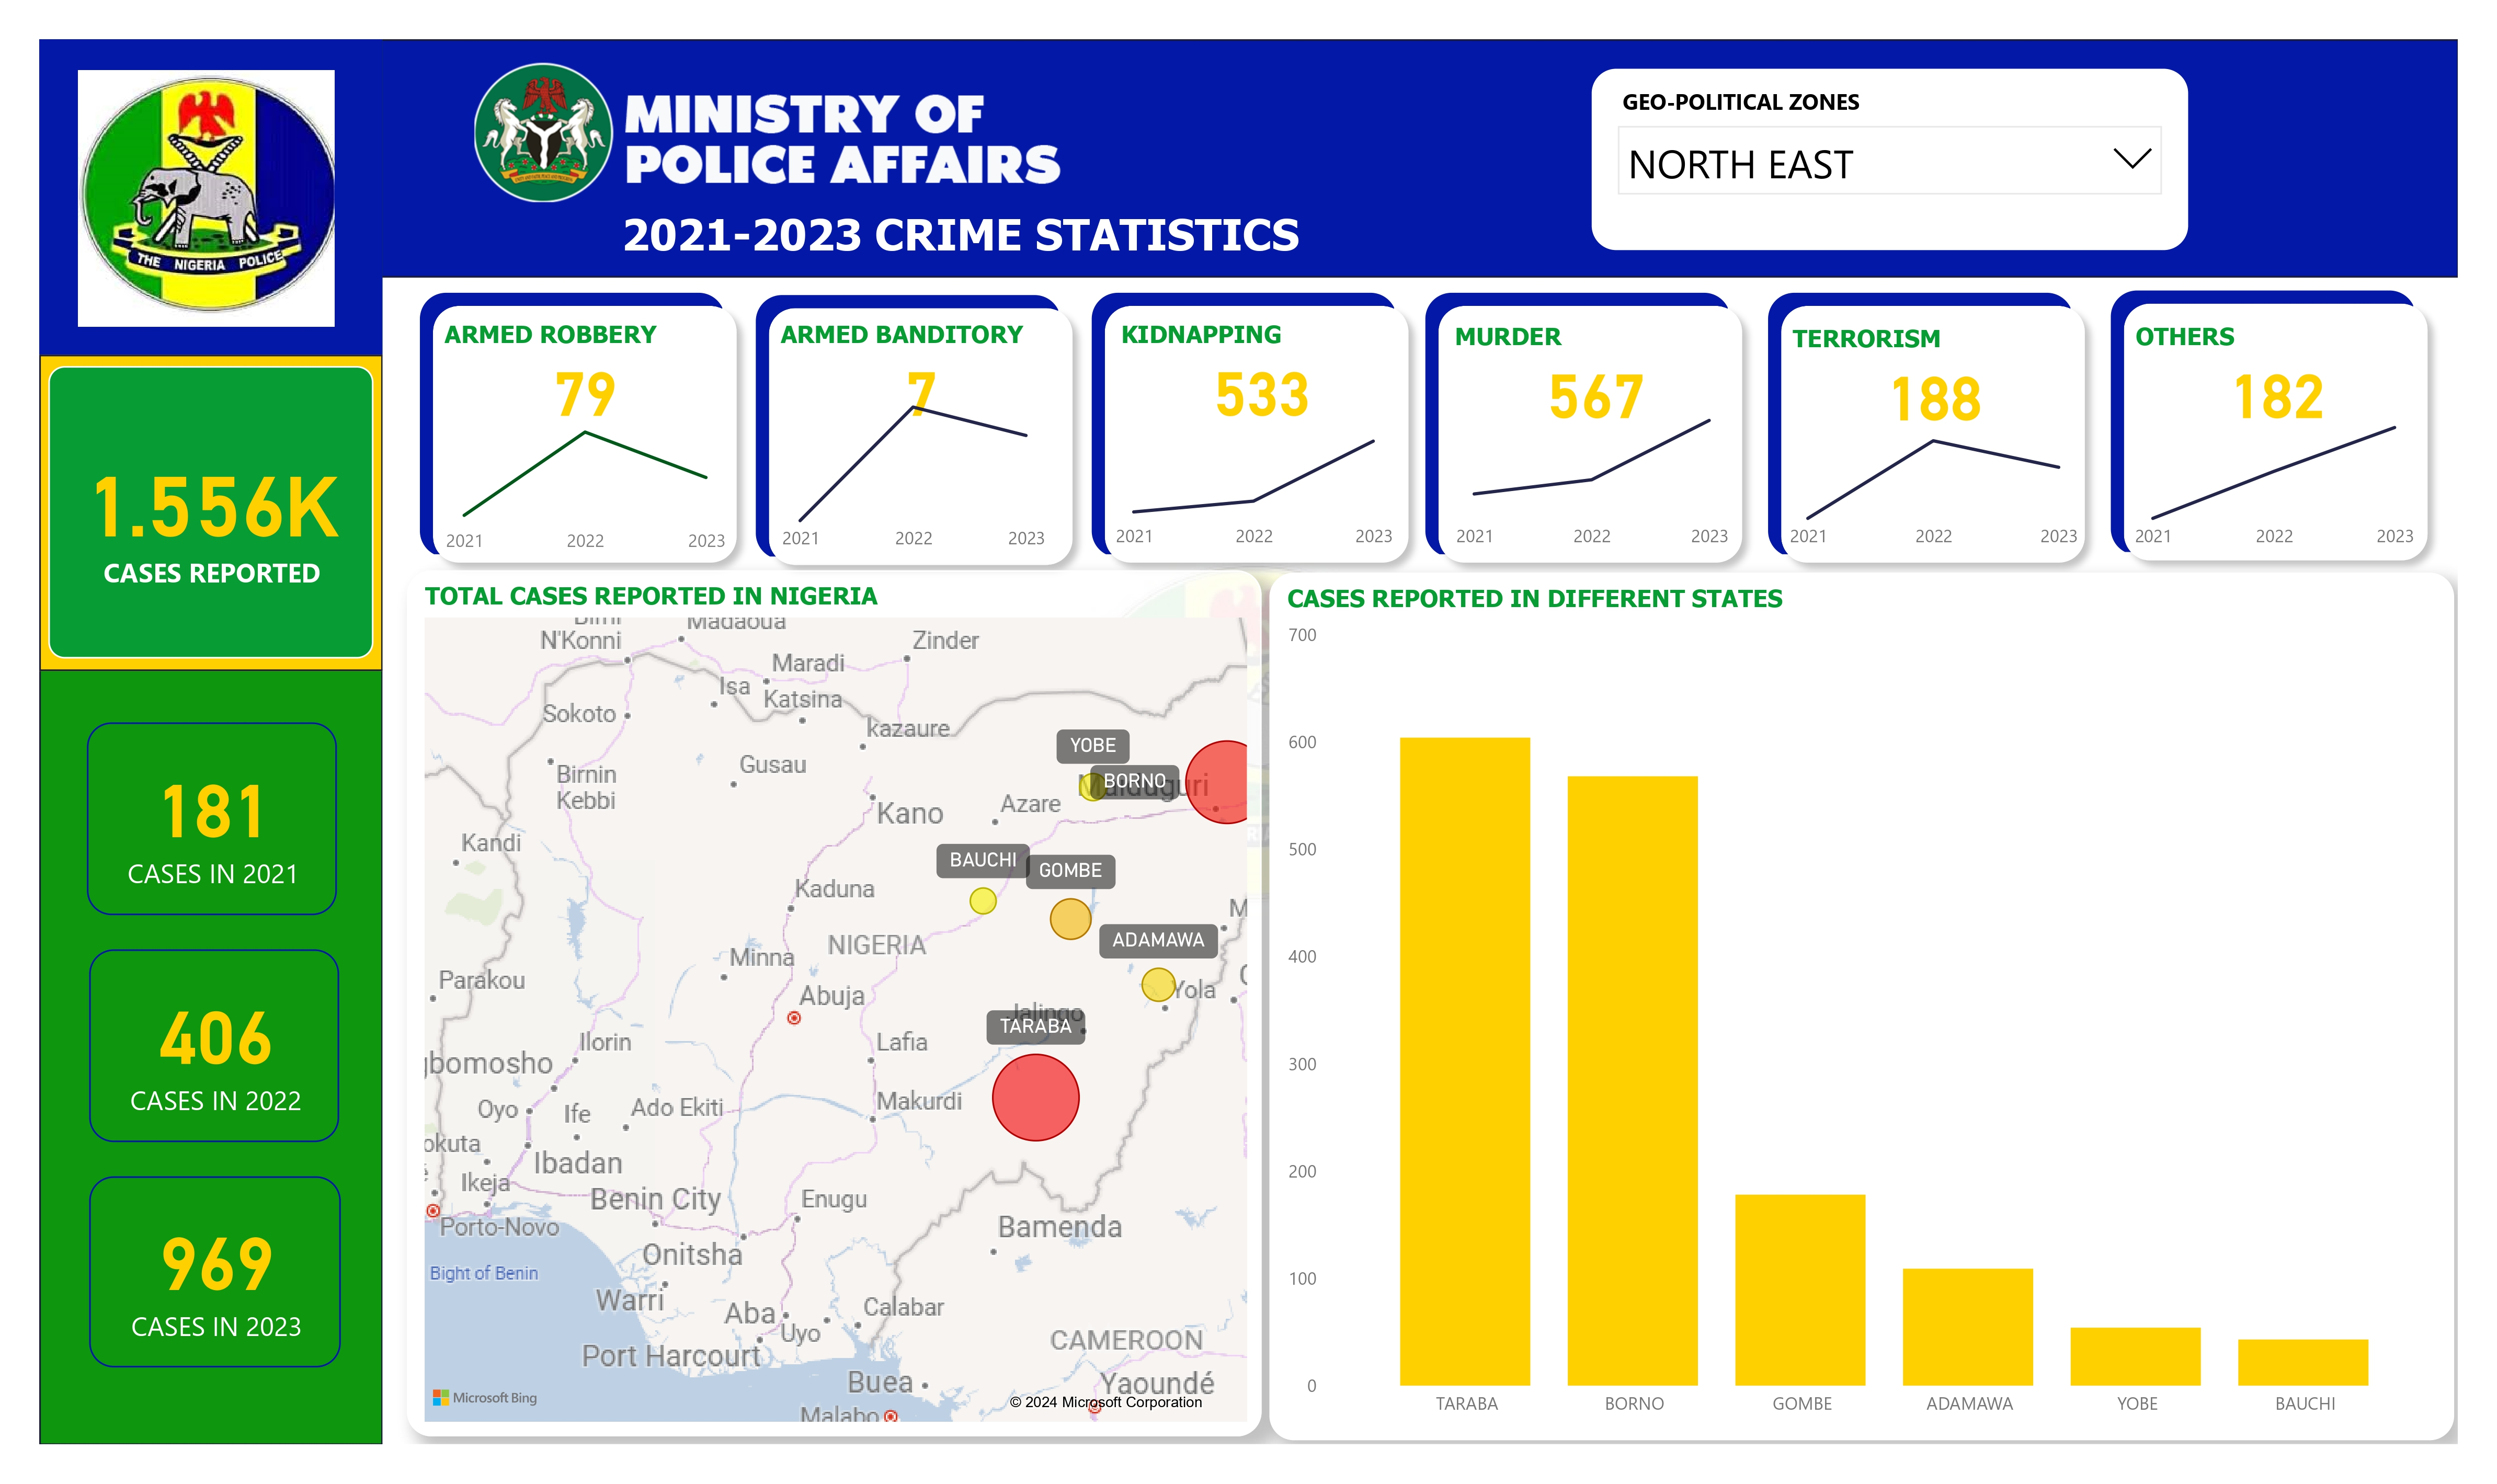

What the dashboard file says about the page in this screenshot:
{"tool":"powerbi","page":{"name":"OVERVIEW","canvas":[1480,860],"ordinal":0},"visuals":[{"type":"shape","box":[183.3,0,1297.2,145.8],"z":0},{"type":"shape","box":[1267.1,152.8,186.6,161.8],"z":0,"group":"g5"},{"type":"shape","box":[232.3,153.5,186.6,161.8],"z":0,"group":"g1"},{"type":"shape","box":[643.4,154.2,186.6,161.8],"z":0,"group":"g3"},{"type":"shape","box":[847.6,154.2,186.6,161.8],"z":0,"group":"g4"},{"type":"shape","box":[1056.4,154.4,186.6,161.8],"z":0,"group":"g6"},{"type":"shape","box":[437.8,155.5,186.6,161.8],"z":0,"group":"g2"},{"type":"shape","box":[1267.1,152.8,203.8,175.2],"z":1000,"group":"g5"},{"type":"group","id":"g1","title":"Group 1","box":[232.3,153.5,203.8,175.2],"z":1000},{"type":"shape","box":[232.3,153.5,203.8,175.2],"z":1000,"group":"g1"},{"type":"shape","box":[643.4,154.2,203.8,175.2],"z":1000,"group":"g3"},{"type":"shape","box":[847.6,154.2,203.8,175.2],"z":1000,"group":"g4"},{"type":"shape","box":[1056.4,154.4,203.8,175.2],"z":1000,"group":"g6"},{"type":"shape","box":[437.8,155.5,203.8,175.2],"z":1000,"group":"g2"},{"type":"group","id":"g2","title":"Group 1","box":[437.8,155.5,203.8,175.2],"z":2000},{"type":"group","id":"g3","title":"Group 1","box":[643.4,154.2,203.8,175.2],"z":3000},{"type":"group","id":"g4","title":"Group 1","box":[847.6,154.2,203.8,175.2],"z":4000},{"type":"group","id":"g5","title":"Group 1","box":[1267.1,152.8,204.2,175],"z":5000},{"type":"group","id":"g6","title":"Group 1","box":[1056.4,154.4,204.2,176.4],"z":6000},{"type":"slicer","fields":{"Values":["Crime-Statistics-Summary-Ministry-of-Police-Affairs FOR 3 YEARS.GEO-POLITICAL ZONES","Crime-Statistics-Summary-Ministry-of-Police-Affairs FOR 3 YEARS.STATE"]},"box":[950,18.1,365.3,111.1],"z":7000},{"type":"shape","box":[0,0,210.3,860.3],"z":8000},{"type":"shape","box":[0,0,210.3,193.6],"z":9000},{"type":"map","title":"TOTAL CASES REPORTED IN NIGERIA","fields":{"Category":["Crime-Statistics-Summary-Ministry-of-Police-Affairs FOR 3 YEARS.STATE"],"Size":["Sum(Crime-Statistics-Summary-Ministry-of-Police-Affairs FOR 3 YEARS.TOTAL CASES REPORTED)"]},"box":[224.8,325.5,522.9,529.9],"z":10000},{"type":"card","fields":{"Values":["Sum(Crime-Statistics-Summary-Ministry-of-Police-Affairs FOR 3 YEARS.TOTAL CASES REPORTED)"]},"box":[29.2,418.1,152.8,118.1],"z":11000},{"type":"card","fields":{"Values":["Sum(Crime-Statistics-Summary-Ministry-of-Police-Affairs FOR 3 YEARS.TOTAL CASES REPORTED)"]},"box":[30.8,556.6,153.3,117.8],"z":12000},{"type":"card","fields":{"Values":["Sum(Crime-Statistics-Summary-Ministry-of-Police-Affairs FOR 3 YEARS.TOTAL CASES REPORTED)"]},"box":[30.6,695.8,154.2,116.7],"z":13000},{"type":"shape","box":[3.4,872.4,210.3,206.9],"z":14000},{"type":"shape","box":[0,193.6,210.3,193.6],"z":15000},{"type":"card","title":"ARMED ROBBERY","fields":{"Values":["Sum(Crime-Statistics-Summary-Ministry-of-Police-Affairs FOR 3 YEARS.ARMED ROBBERYCASES (JAN-DEC))"]},"box":[243.1,170.8,181.9,68.1],"z":16000},{"type":"lineChart","fields":{"Y":["Sum(Crime-Statistics-Summary-Ministry-of-Police-Affairs FOR 3 YEARS.ARMED ROBBERYCASES (JAN-DEC))"],"Category":["Crime-Statistics-Summary-Ministry-of-Police-Affairs FOR 3 YEARS.YEAR"]},"box":[243.1,212.5,181.9,112.5],"z":17000},{"type":"card","title":"ARMED BANDITORY","fields":{"Values":["Sum(Crime-Statistics-Summary-Ministry-of-Police-Affairs FOR 3 YEARS.ARMEDBANDITRY OCCCURRENCE (JAN-DEC))"]},"box":[448.6,170.8,181.9,68.1],"z":18000},{"type":"card","title":"KIDNAPPING","fields":{"Values":["Sum(Crime-Statistics-Summary-Ministry-of-Police-Affairs FOR 3 YEARS.KIDNAPPINGCASES (JAN-DEC))"]},"box":[656.9,170.8,181.9,68.1],"z":19000},{"type":"card","title":"MURDER","fields":{"Values":["Sum(Crime-Statistics-Summary-Ministry-of-Police-Affairs FOR 3 YEARS.MURDERCASES (JAN-DEC))"]},"box":[861.1,172.2,181.9,68.1],"z":20000},{"type":"card","title":"TERRORISM","fields":{"Values":["Sum(Crime-Statistics-Summary-Ministry-of-Police-Affairs FOR 3 YEARS.TERRORRISM/SECESSIONISTSATTACK (JAN-DEC))"]},"box":[1068.1,173.6,183.3,68.1],"z":21000},{"type":"card","title":"OTHERS","fields":{"Values":["Sum(Crime-Statistics-Summary-Ministry-of-Police-Affairs FOR 3 YEARS.OTHERS (JAN-DEC))"]},"box":[1277.8,172.2,183.3,68.1],"z":22000},{"type":"lineChart","fields":{"Y":["Sum(Crime-Statistics-Summary-Ministry-of-Police-Affairs FOR 3 YEARS.ARMEDBANDITRY OCCCURRENCE (JAN-DEC))"],"Category":["Crime-Statistics-Summary-Ministry-of-Police-Affairs FOR 3 YEARS.YEAR"]},"box":[448.6,211.1,172.2,112.5],"z":23000},{"type":"lineChart","fields":{"Y":["Sum(Crime-Statistics-Summary-Ministry-of-Police-Affairs FOR 3 YEARS.KIDNAPPINGCASES (JAN-DEC))"],"Category":["Crime-Statistics-Summary-Ministry-of-Police-Affairs FOR 3 YEARS.YEAR"]},"box":[652.8,209.7,180.6,112.5],"z":24000},{"type":"lineChart","fields":{"Y":["Sum(Crime-Statistics-Summary-Ministry-of-Police-Affairs FOR 3 YEARS.MURDERCASES (JAN-DEC))"],"Category":["Crime-Statistics-Summary-Ministry-of-Police-Affairs FOR 3 YEARS.YEAR"]},"box":[861.1,209.7,177.8,112.5],"z":25000},{"type":"lineChart","fields":{"Y":["Sum(Crime-Statistics-Summary-Ministry-of-Police-Affairs FOR 3 YEARS.TERRORRISM/SECESSIONISTSATTACK (JAN-DEC))"],"Category":["Crime-Statistics-Summary-Ministry-of-Police-Affairs FOR 3 YEARS.YEAR"]},"box":[1065.3,209.7,187.5,112.5],"z":26000},{"type":"lineChart","fields":{"Y":["Sum(Crime-Statistics-Summary-Ministry-of-Police-Affairs FOR 3 YEARS.OTHERS (JAN-DEC))"],"Category":["Crime-Statistics-Summary-Ministry-of-Police-Affairs FOR 3 YEARS.YEAR"]},"box":[1276.4,209.7,181.9,112.5],"z":27000},{"type":"image","box":[176.4,0,540.3,109.7],"z":28000},{"type":"textbox","box":[351.4,97.2,465.3,48.6],"z":29000},{"type":"image","box":[2.8,13.9,198.6,166.7],"z":30000},{"type":"card","fields":{"Values":["Sum(Crime-Statistics-Summary-Ministry-of-Police-Affairs FOR 3 YEARS.TOTAL CASES REPORTED)"]},"box":[5.6,200,198.6,179.2],"z":31000},{"type":"clusteredColumnChart","title":"CASES REPORTED IN DIFFERENT STATES","fields":{"Category":["Crime-Statistics-Summary-Ministry-of-Police-Affairs FOR 3 YEARS.STATE"],"Y":["Sum(Crime-Statistics-Summary-Ministry-of-Police-Affairs FOR 3 YEARS.TOTAL CASES REPORTED)"]},"box":[752.8,326.4,725,530.6],"z":32000}]}

Visuals, with their boxes in screenshot pixels (x1, y1, x2, y2):
shape: [left=331, top=32, right=2489, bottom=275]
shape: [left=2134, top=287, right=2445, bottom=556]
shape: [left=413, top=288, right=723, bottom=557]
shape: [left=1097, top=289, right=1407, bottom=558]
shape: [left=1436, top=289, right=1747, bottom=558]
shape: [left=1784, top=289, right=2094, bottom=558]
shape: [left=755, top=291, right=1065, bottom=561]
shape: [left=2134, top=287, right=2473, bottom=578]
"Group 1" group: [left=413, top=288, right=751, bottom=579]
shape: [left=413, top=288, right=751, bottom=579]
shape: [left=1097, top=289, right=1435, bottom=580]
shape: [left=1436, top=289, right=1775, bottom=580]
shape: [left=1784, top=289, right=2123, bottom=581]
shape: [left=755, top=291, right=1093, bottom=583]
"Group 1" group: [left=755, top=291, right=1093, bottom=583]
"Group 1" group: [left=1097, top=289, right=1435, bottom=580]
"Group 1" group: [left=1436, top=289, right=1775, bottom=580]
"Group 1" group: [left=2134, top=287, right=2474, bottom=578]
"Group 1" group: [left=1784, top=289, right=2124, bottom=583]
slicer - Crime-Statistics-Summary-Ministry-of-Police-Affairs FOR 3 YEARS.GEO-POLITICAL ZONES x Crime-Statistics-Summary-Ministry-of-Police-Affairs FOR 3 YEARS.STATE: [left=1606, top=63, right=2215, bottom=247]
shape: [left=26, top=32, right=376, bottom=1464]
shape: [left=26, top=32, right=376, bottom=355]
"TOTAL CASES REPORTED IN NIGERIA" map: [left=400, top=574, right=1270, bottom=1456]
card - Sum(Crime-Statistics-Summary-Ministry-of-Police-Affairs FOR 3 YEARS.TOTAL CASES REPORTED): [left=75, top=728, right=329, bottom=924]
card - Sum(Crime-Statistics-Summary-Ministry-of-Police-Affairs FOR 3 YEARS.TOTAL CASES REPORTED): [left=77, top=958, right=333, bottom=1155]
card - Sum(Crime-Statistics-Summary-Ministry-of-Police-Affairs FOR 3 YEARS.TOTAL CASES REPORTED): [left=77, top=1190, right=334, bottom=1384]
shape: [left=26, top=355, right=376, bottom=677]
"ARMED ROBBERY" card: [left=430, top=317, right=733, bottom=430]
lineChart - Sum(Crime-Statistics-Summary-Ministry-of-Police-Affairs FOR 3 YEARS.ARMED ROBBERYCASES (JAN-DEC)) x Crime-Statistics-Summary-Ministry-of-Police-Affairs FOR 3 YEARS.YEAR: [left=430, top=386, right=733, bottom=573]
"ARMED BANDITORY" card: [left=772, top=317, right=1075, bottom=430]
"KIDNAPPING" card: [left=1119, top=317, right=1422, bottom=430]
"MURDER" card: [left=1459, top=319, right=1761, bottom=432]
"TERRORISM" card: [left=1803, top=322, right=2108, bottom=435]
"OTHERS" card: [left=2152, top=319, right=2457, bottom=432]
lineChart - Sum(Crime-Statistics-Summary-Ministry-of-Police-Affairs FOR 3 YEARS.ARMEDBANDITRY OCCCURRENCE (JAN-DEC)) x Crime-Statistics-Summary-Ministry-of-Police-Affairs FOR 3 YEARS.YEAR: [left=772, top=384, right=1059, bottom=571]
lineChart - Sum(Crime-Statistics-Summary-Ministry-of-Police-Affairs FOR 3 YEARS.KIDNAPPINGCASES (JAN-DEC)) x Crime-Statistics-Summary-Ministry-of-Police-Affairs FOR 3 YEARS.YEAR: [left=1112, top=381, right=1412, bottom=568]
lineChart - Sum(Crime-Statistics-Summary-Ministry-of-Police-Affairs FOR 3 YEARS.MURDERCASES (JAN-DEC)) x Crime-Statistics-Summary-Ministry-of-Police-Affairs FOR 3 YEARS.YEAR: [left=1459, top=381, right=1754, bottom=568]
lineChart - Sum(Crime-Statistics-Summary-Ministry-of-Police-Affairs FOR 3 YEARS.TERRORRISM/SECESSIONISTSATTACK (JAN-DEC)) x Crime-Statistics-Summary-Ministry-of-Police-Affairs FOR 3 YEARS.YEAR: [left=1798, top=381, right=2111, bottom=568]
lineChart - Sum(Crime-Statistics-Summary-Ministry-of-Police-Affairs FOR 3 YEARS.OTHERS (JAN-DEC)) x Crime-Statistics-Summary-Ministry-of-Police-Affairs FOR 3 YEARS.YEAR: [left=2150, top=381, right=2453, bottom=568]
image: [left=320, top=32, right=1218, bottom=215]
textbox: [left=611, top=194, right=1385, bottom=275]
image: [left=31, top=55, right=361, bottom=333]
card - Sum(Crime-Statistics-Summary-Ministry-of-Police-Affairs FOR 3 YEARS.TOTAL CASES REPORTED): [left=36, top=366, right=366, bottom=664]
"CASES REPORTED IN DIFFERENT STATES" clusteredColumnChart: [left=1279, top=576, right=2485, bottom=1458]
